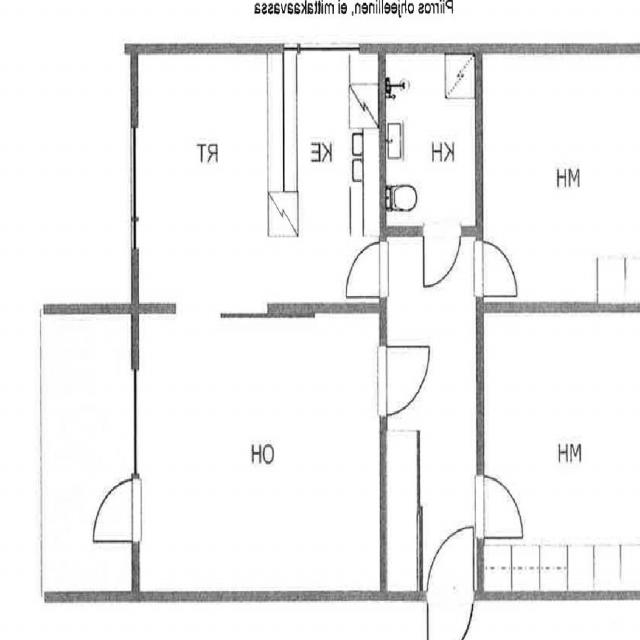door: (428, 521, 473, 601), (90, 480, 139, 541), (476, 477, 524, 538), (423, 226, 460, 291), (343, 243, 387, 297), (476, 242, 520, 296), (427, 589, 473, 640)
